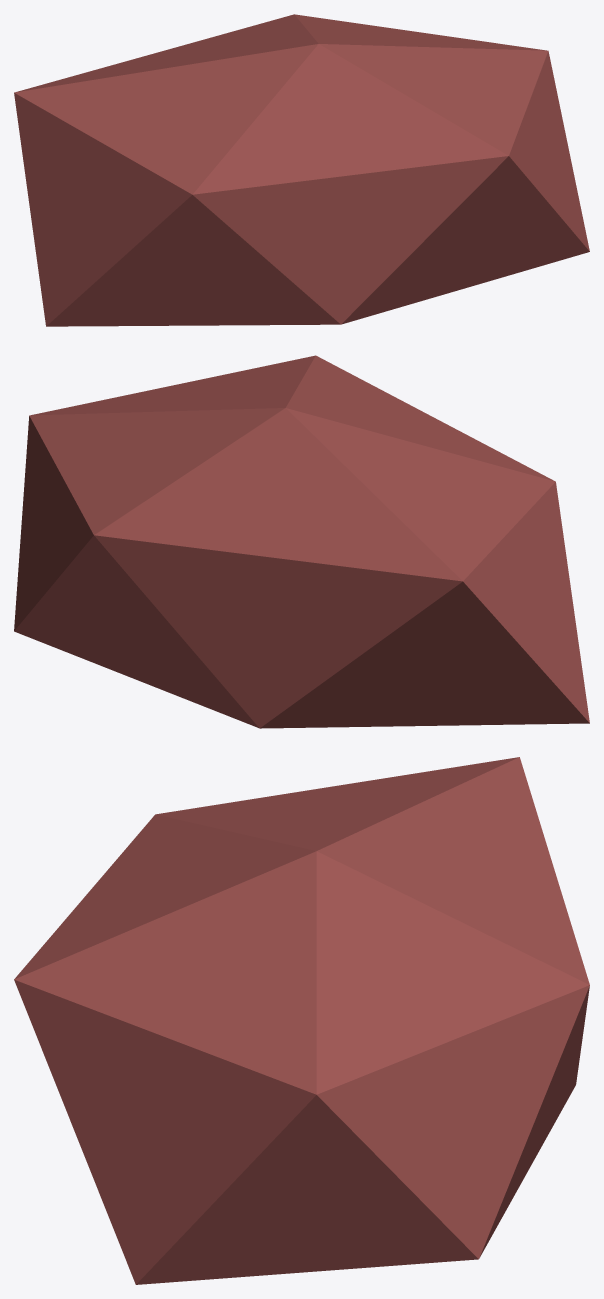
Rendered from rock_1.glb.
3 views of the same model, one above another, from view 1: azimuth 30°, elevation 25°; view 2: azimuth 150°, elevation 25°; view 3: azimuth 270°, elevation 25° (orthographic). The views are drawn at different scales.
Visible parts, largest first — view 1: rock_1; view 2: rock_1; view 3: rock_1.
Part boxes in pixels (bbox=[...]): rock_1: bbox=[14, 14, 589, 326]; rock_1: bbox=[14, 355, 589, 728]; rock_1: bbox=[14, 757, 589, 1284].
Bounding box in the file's own units: 2.18 × 1.03 × 1.55.
